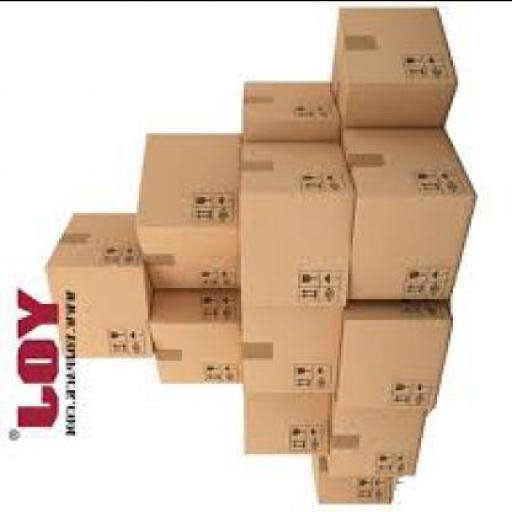cardboard: (342, 125, 473, 298), (242, 137, 352, 305), (44, 207, 154, 355), (134, 130, 239, 284), (330, 4, 455, 125), (332, 300, 448, 405), (239, 303, 341, 389), (145, 287, 239, 380), (327, 391, 421, 474), (238, 80, 340, 138), (242, 386, 328, 453), (310, 448, 396, 501)
